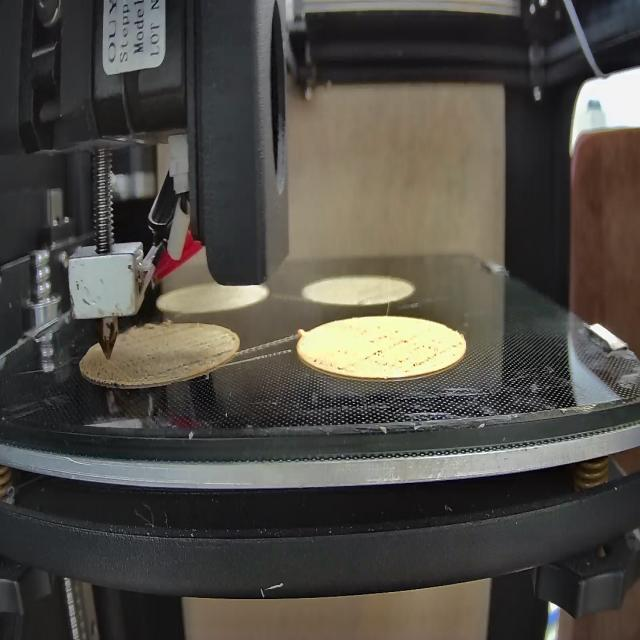under_extrusion: (80, 347, 232, 385), (365, 324, 462, 375), (311, 348, 356, 378)
